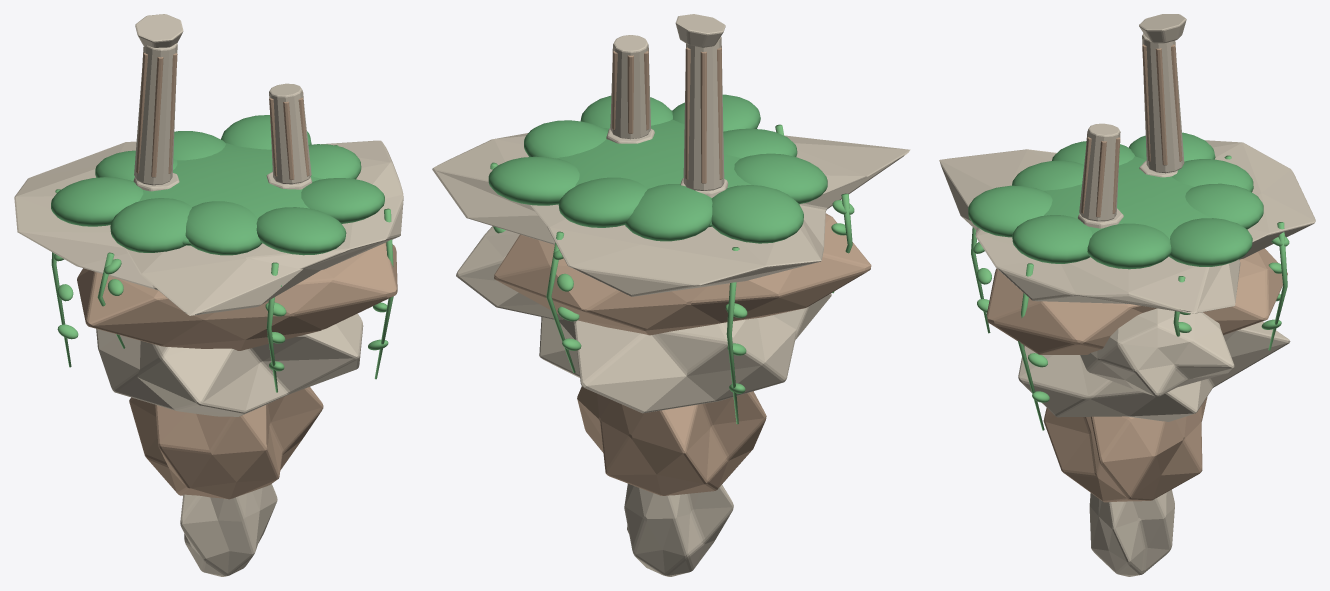
File: floating_spire_rock.glb
3 renders of one model, left to right at view 1: azimuth 30°, elevation 25°; view 2: azimuth 150°, elevation 25°; view 3: azimuth 270°, elevation 25°, orthographic. The views are drawn at different scales.
Visible parts, largest first — view 1: RuinCapA, RuinColA_Flute0, MossCenterCap, IvyLeafCluster_0_0; view 2: RuinCapA, RuinColA_Flute0, MossCenterCap, IvyLeafCluster_0_0; view 3: RuinCapA, MossCenterCap, RuinColA_Flute0, IvyLeafCluster_0_0.
Part boxes in pixels (<box>): RuinCapA: <box>14,14,403,576</box>; RuinColA_Flute0: <box>77,47,397,499</box>; MossCenterCap: <box>51,115,384,255</box>; IvyLeafCluster_0_0: <box>51,145,393,392</box>; RuinCapA: <box>432,14,910,576</box>; RuinColA_Flute0: <box>494,46,871,495</box>; MossCenterCap: <box>488,94,827,243</box>; IvyLeafCluster_0_0: <box>490,124,854,424</box>; RuinCapA: <box>939,14,1315,576</box>; MossCenterCap: <box>968,132,1263,269</box>; RuinColA_Flute0: <box>987,40,1287,502</box>; IvyLeafCluster_0_0: <box>969,143,1289,430</box>.
Size of the model in its own units: 6.57 by 9.43 by 6.
